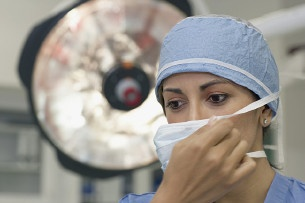Mask: (160, 78, 261, 180)
